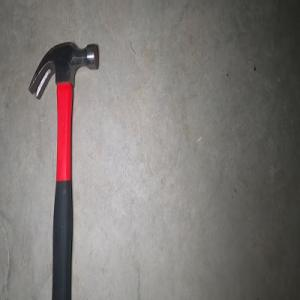Hammer: (27, 40, 99, 300)
